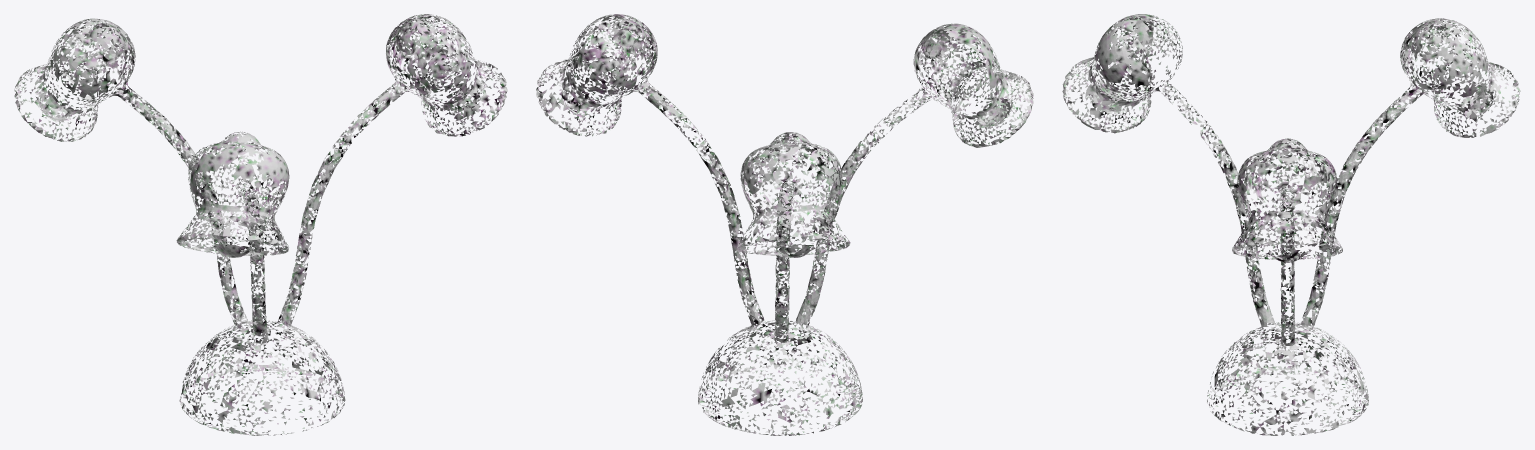
File: lamp_final700.obj
3 renders of one model, left to right at view 1: azimuth 30°, elevation 25°; view 2: azimuth 150°, elevation 25°; view 3: azimuth 270°, elevation 25°, orthographic.
Size of the model in its own units: 1.59 by 1.32 by 1.62.
